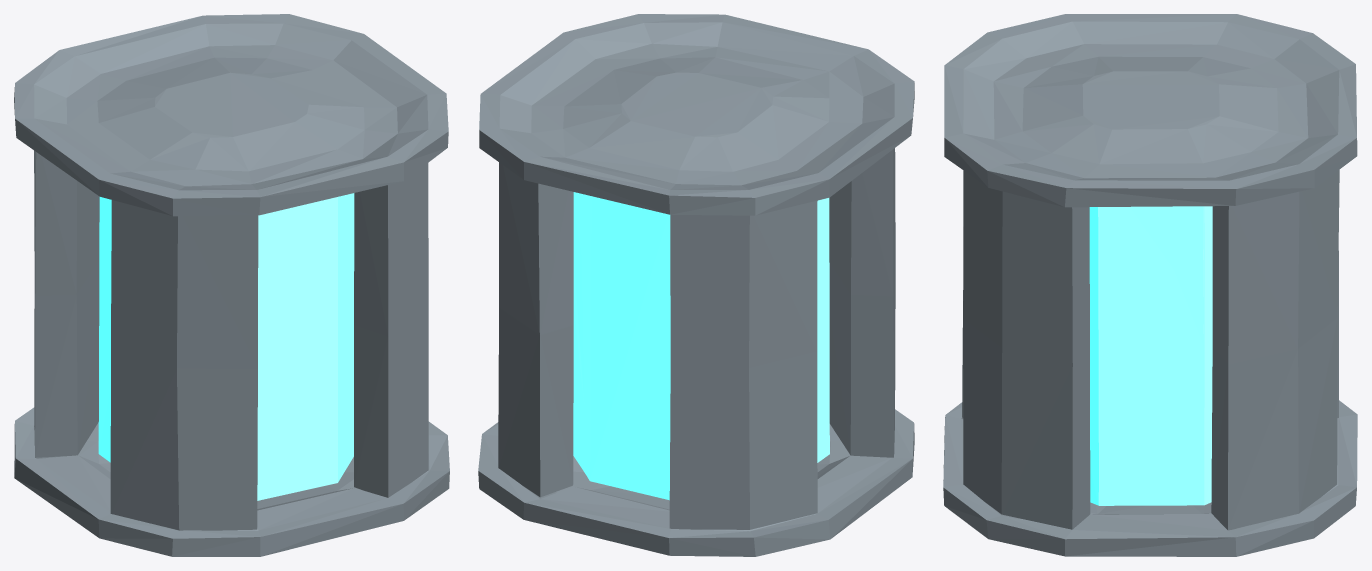
File: Barrel.fbx
3 views of the same model, side by side, from view 1: azimuth 30°, elevation 25°; view 2: azimuth 150°, elevation 25°; view 3: azimuth 270°, elevation 25° (orthographic). The views are drawn at different scales.
Visible parts, largest first — view 1: Barrel; view 2: Barrel; view 3: Barrel.
Boxes of the visible parts, box(x1,y1,x2,y2) form: Barrel: box(14, 14, 449, 556); Barrel: box(478, 14, 914, 556); Barrel: box(943, 14, 1357, 556).
Bounding box in the file's own units: 2.04 × 2.02 × 2.04.
